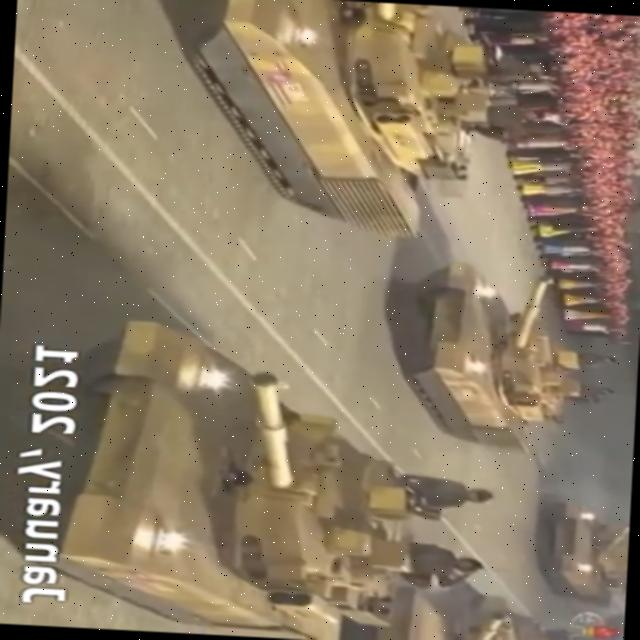north tank: (39, 311, 453, 640), (157, 0, 555, 249), (374, 250, 626, 474), (518, 488, 627, 610)
